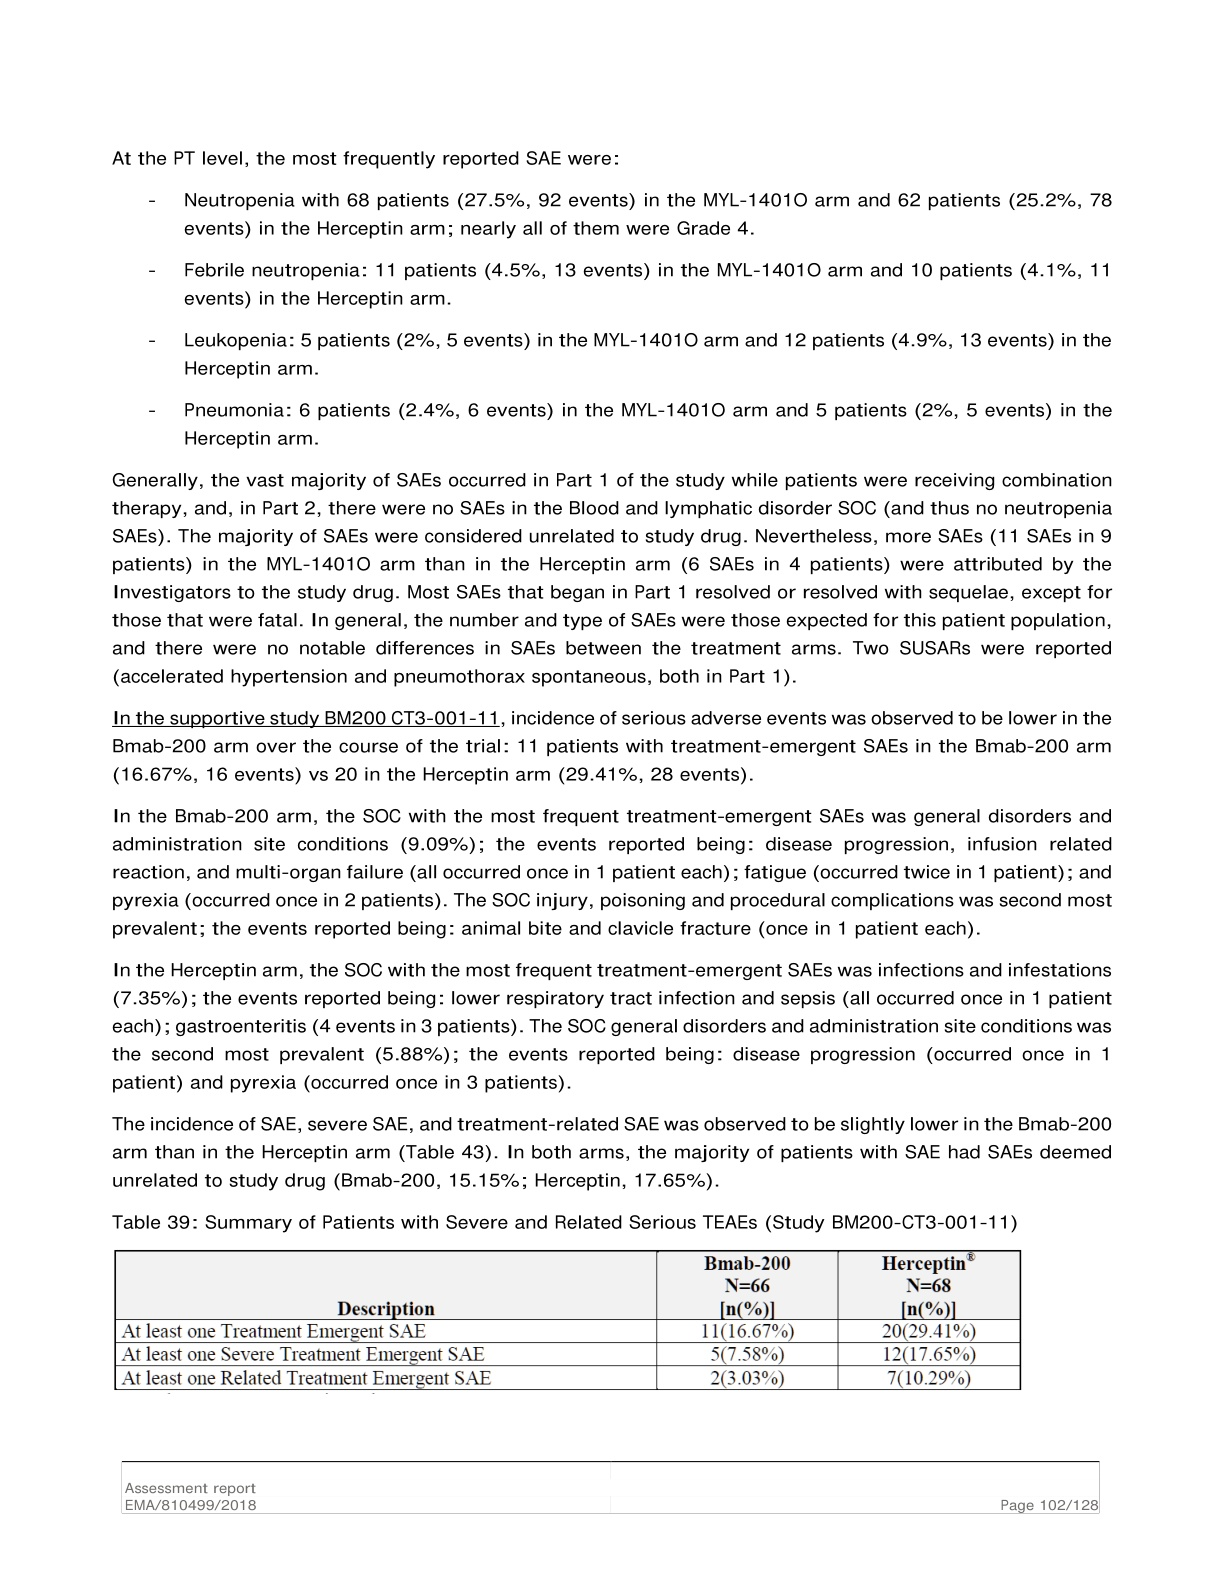full_lined: (114, 1248, 1022, 1391)
